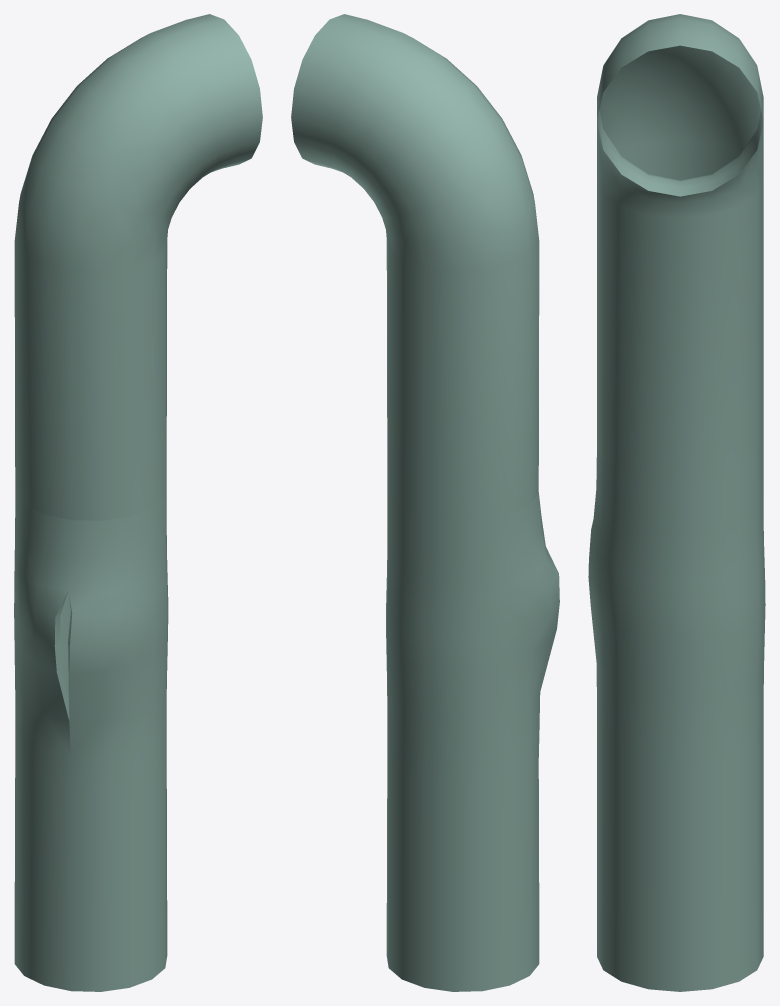
File: PipeComplexLarge_A3_16B.fbx
The picture shows the model from 3 angles, left to right: view 1: azimuth 30°, elevation 25°; view 2: azimuth 150°, elevation 25°; view 3: azimuth 270°, elevation 25°; orthographic projection. The views are drawn at different scales.
Visible parts, largest first — view 1: PipeComplexLarge_A3_16B.001; view 2: PipeComplexLarge_A3_16B.001; view 3: PipeComplexLarge_A3_16B.001.
Boxes of the visible parts, x1,y1,x2,y2 form: PipeComplexLarge_A3_16B.001: [14, 14, 262, 991]; PipeComplexLarge_A3_16B.001: [291, 14, 559, 991]; PipeComplexLarge_A3_16B.001: [588, 14, 765, 991].
Size of the model in its own units: 0.3097 by 1.3 by 0.2125.
